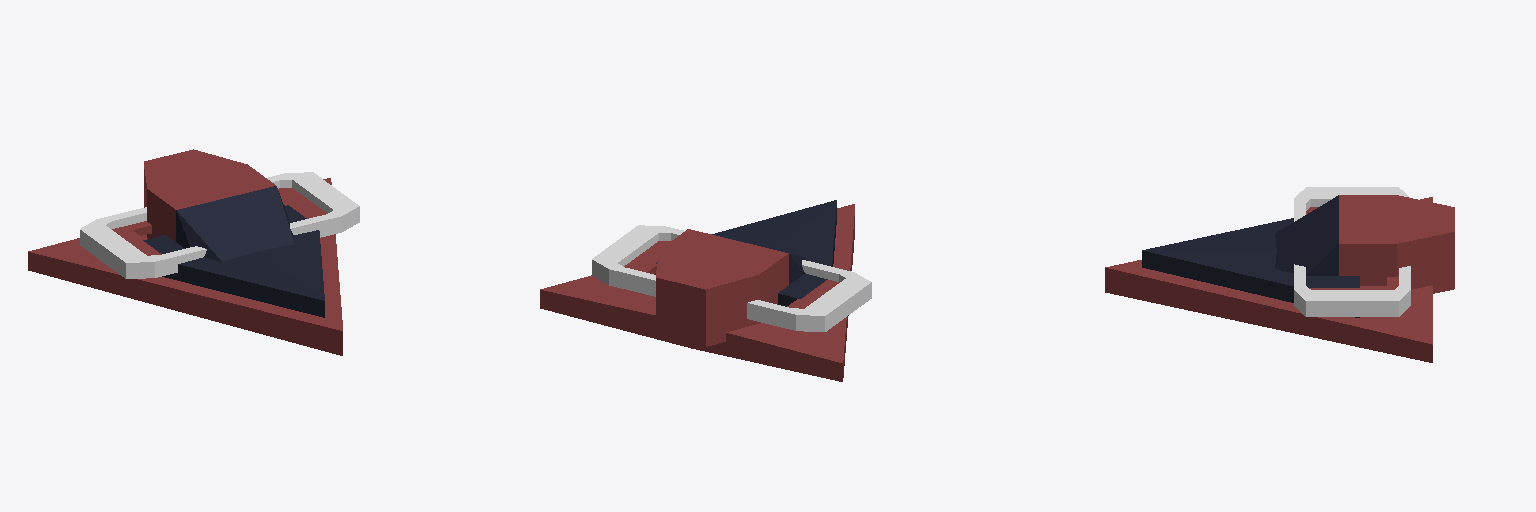
The model's file is flying_00_02.obj.
3 renders of one model, left to right at view 1: azimuth 30°, elevation 25°; view 2: azimuth 150°, elevation 25°; view 3: azimuth 270°, elevation 25°, orthographic.
Visible parts, largest first — view 1: mergedBlocks; view 2: mergedBlocks; view 3: mergedBlocks.
Boxes of the visible parts, x1,y1,x2,y2 form: mergedBlocks: [28, 149, 359, 355]; mergedBlocks: [540, 200, 871, 381]; mergedBlocks: [1105, 187, 1454, 362].
Size of the model in its own units: 1.95 by 0.4482 by 1.95.